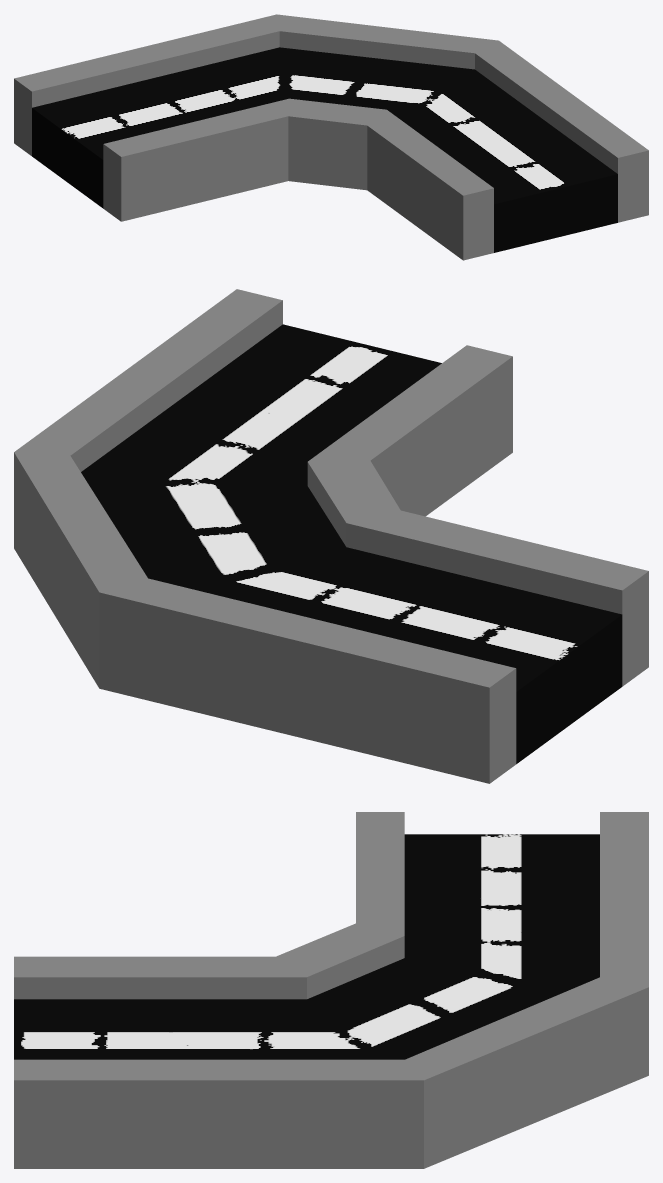
The model's file is road_turn.obj.
The picture shows the model from 3 angles, top to bottom: view 1: azimuth 30°, elevation 25°; view 2: azimuth 150°, elevation 25°; view 3: azimuth 270°, elevation 25°; orthographic projection. The views are drawn at different scales.
Visible parts, largest first — view 1: road_turn_Cube.006; view 2: road_turn_Cube.006; view 3: road_turn_Cube.006.
Part boxes in pixels (box(x1,y1,x2,y2)): road_turn_Cube.006: box(14, 14, 648, 260); road_turn_Cube.006: box(14, 289, 648, 783); road_turn_Cube.006: box(14, 812, 648, 1168).
Size of the model in its own units: 0.013 by 0.002 by 0.013.
